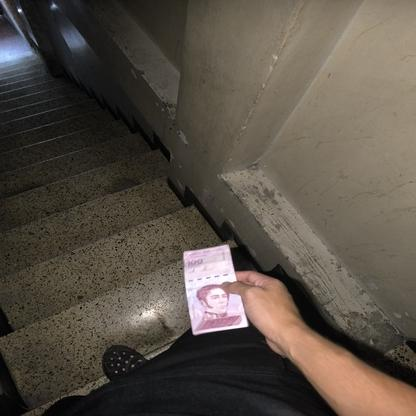one_hundred-front-vef: (183, 244, 248, 334)
